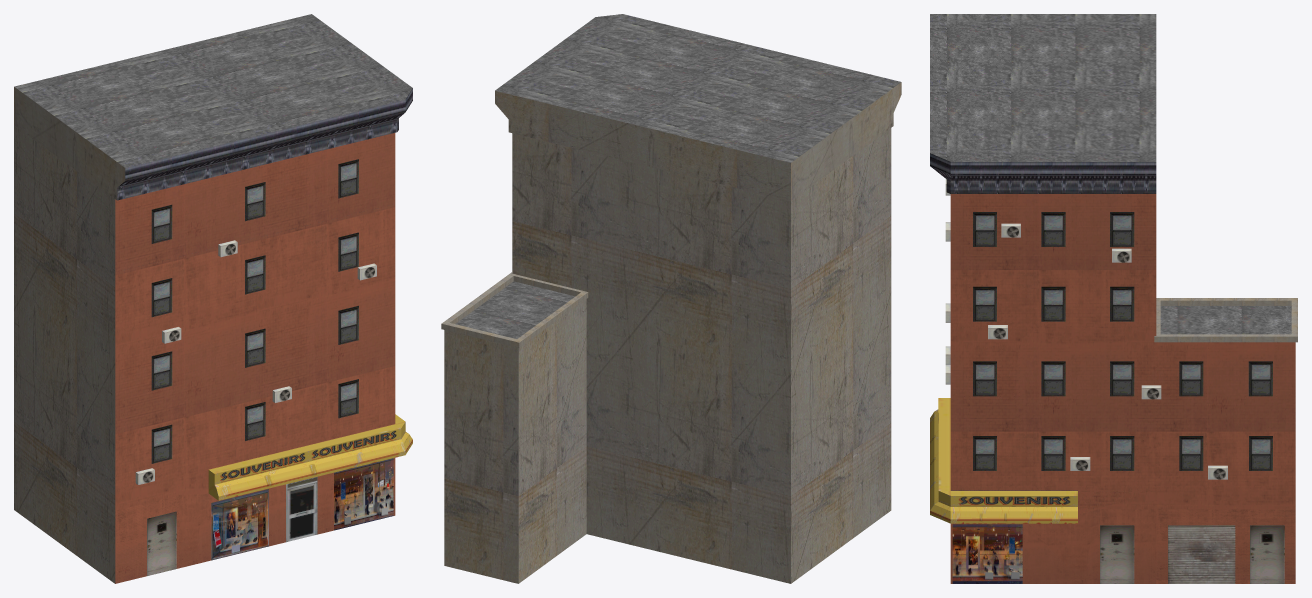
File: psx_building.glb
3 views of the same model, side by side, from view 1: azimuth 30°, elevation 25°; view 2: azimuth 150°, elevation 25°; view 3: azimuth 270°, elevation 25° (orthographic). The views are drawn at different scales.
Visible parts, largest first — view 1: PSX NYC Building; view 2: PSX NYC Building; view 3: PSX NYC Building.
Boxes of the visible parts, x1,y1,x2,y2 form: PSX NYC Building: (14,14,412,583); PSX NYC Building: (441,14,901,583); PSX NYC Building: (930,14,1297,583).
Bounding box in the file's own units: 8.5 × 11.55 × 8.94.
Materials: 13 (13 with a texture image).
